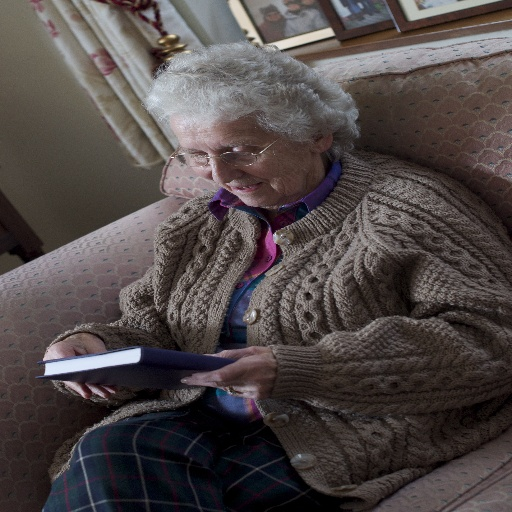hand: (42, 333, 128, 400), (191, 347, 289, 405)
